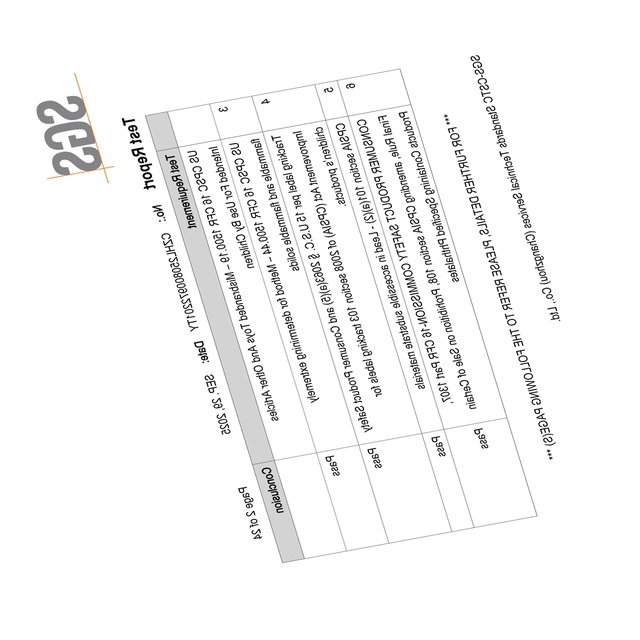sgs: (36, 93, 102, 175)
